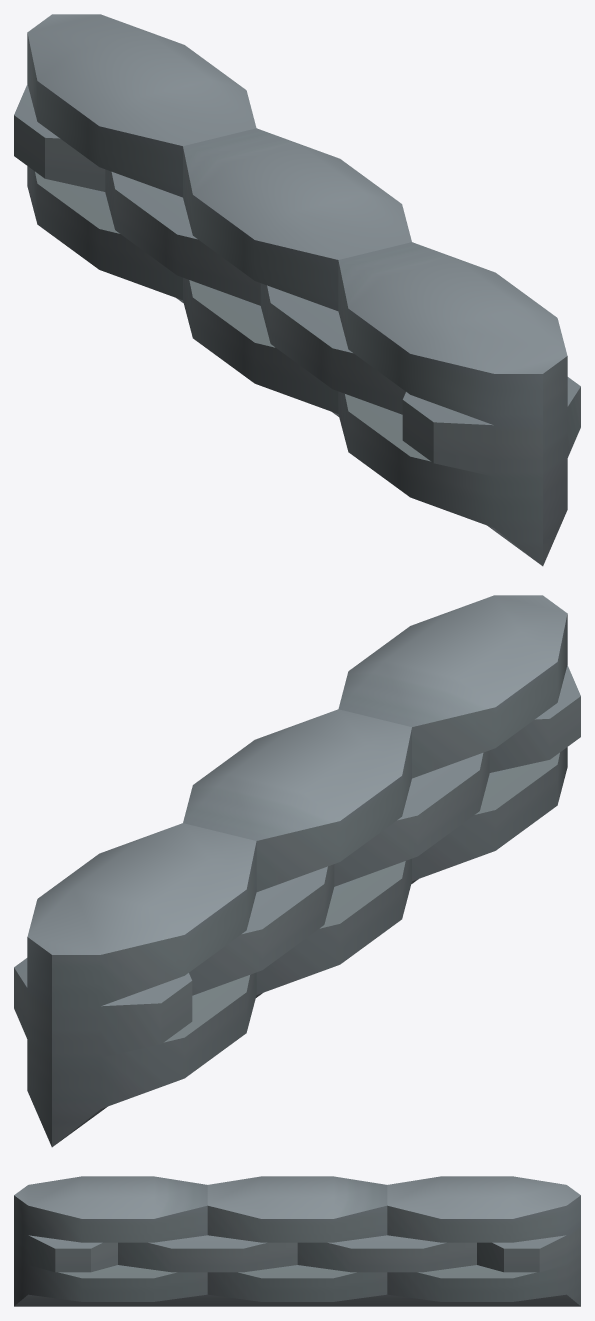
The model's file is fence_stone_straight.glb.
3 renders of one model, top to bottom at view 1: azimuth 30°, elevation 25°; view 2: azimuth 150°, elevation 25°; view 3: azimuth 270°, elevation 25°, orthographic. The views are drawn at different scales.
Visible parts, largest first — view 1: fence_stone_straight; view 2: fence_stone_straight; view 3: fence_stone_straight.
Part boxes in pixels (<box>): fence_stone_straight: <box>14,14,580,566</box>; fence_stone_straight: <box>14,595,580,1147</box>; fence_stone_straight: <box>14,1176,580,1306</box>.
Bounding box in the file's own units: 0.2 × 0.2689 × 1.15.
1 material, 1 textured.
